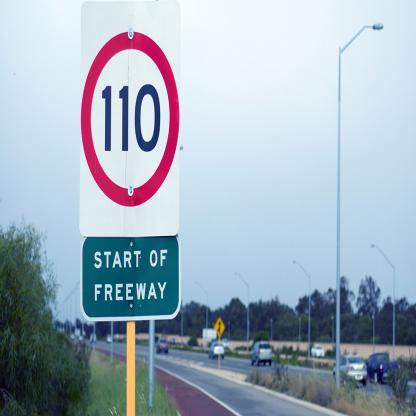Speed Limit 110: (84, 31, 176, 205)
